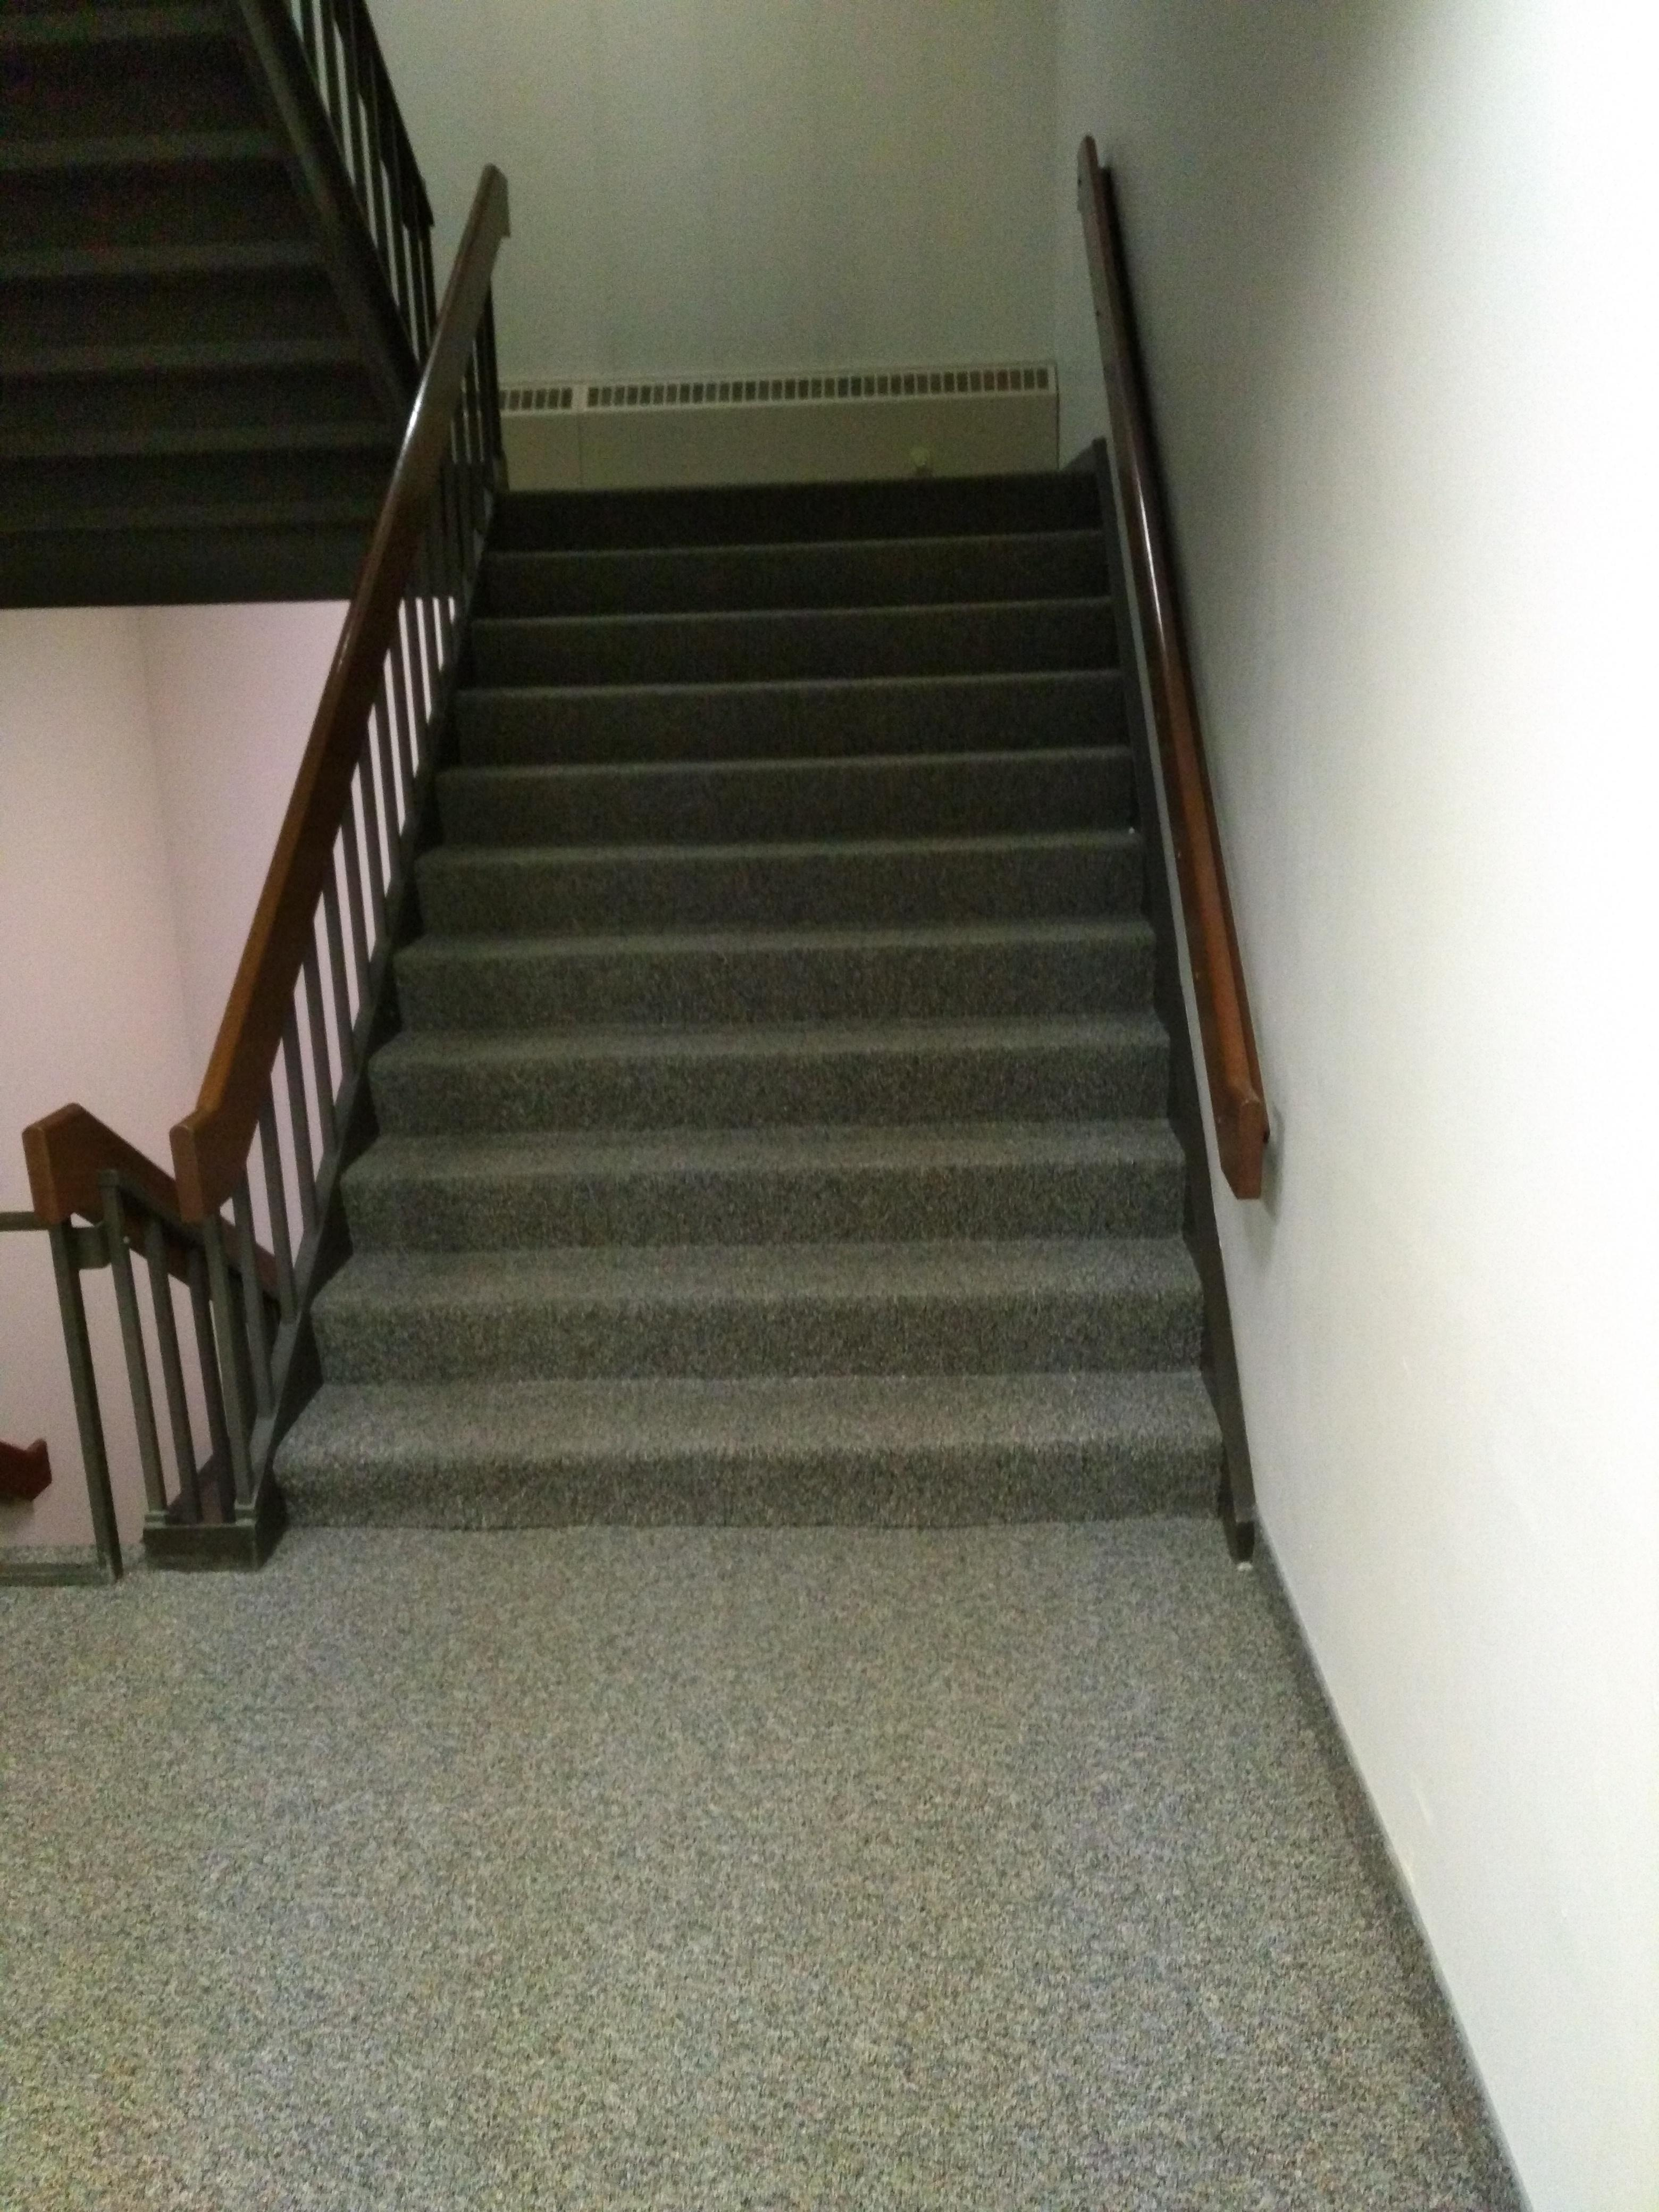stairs_up: (288, 474, 1222, 1545)
